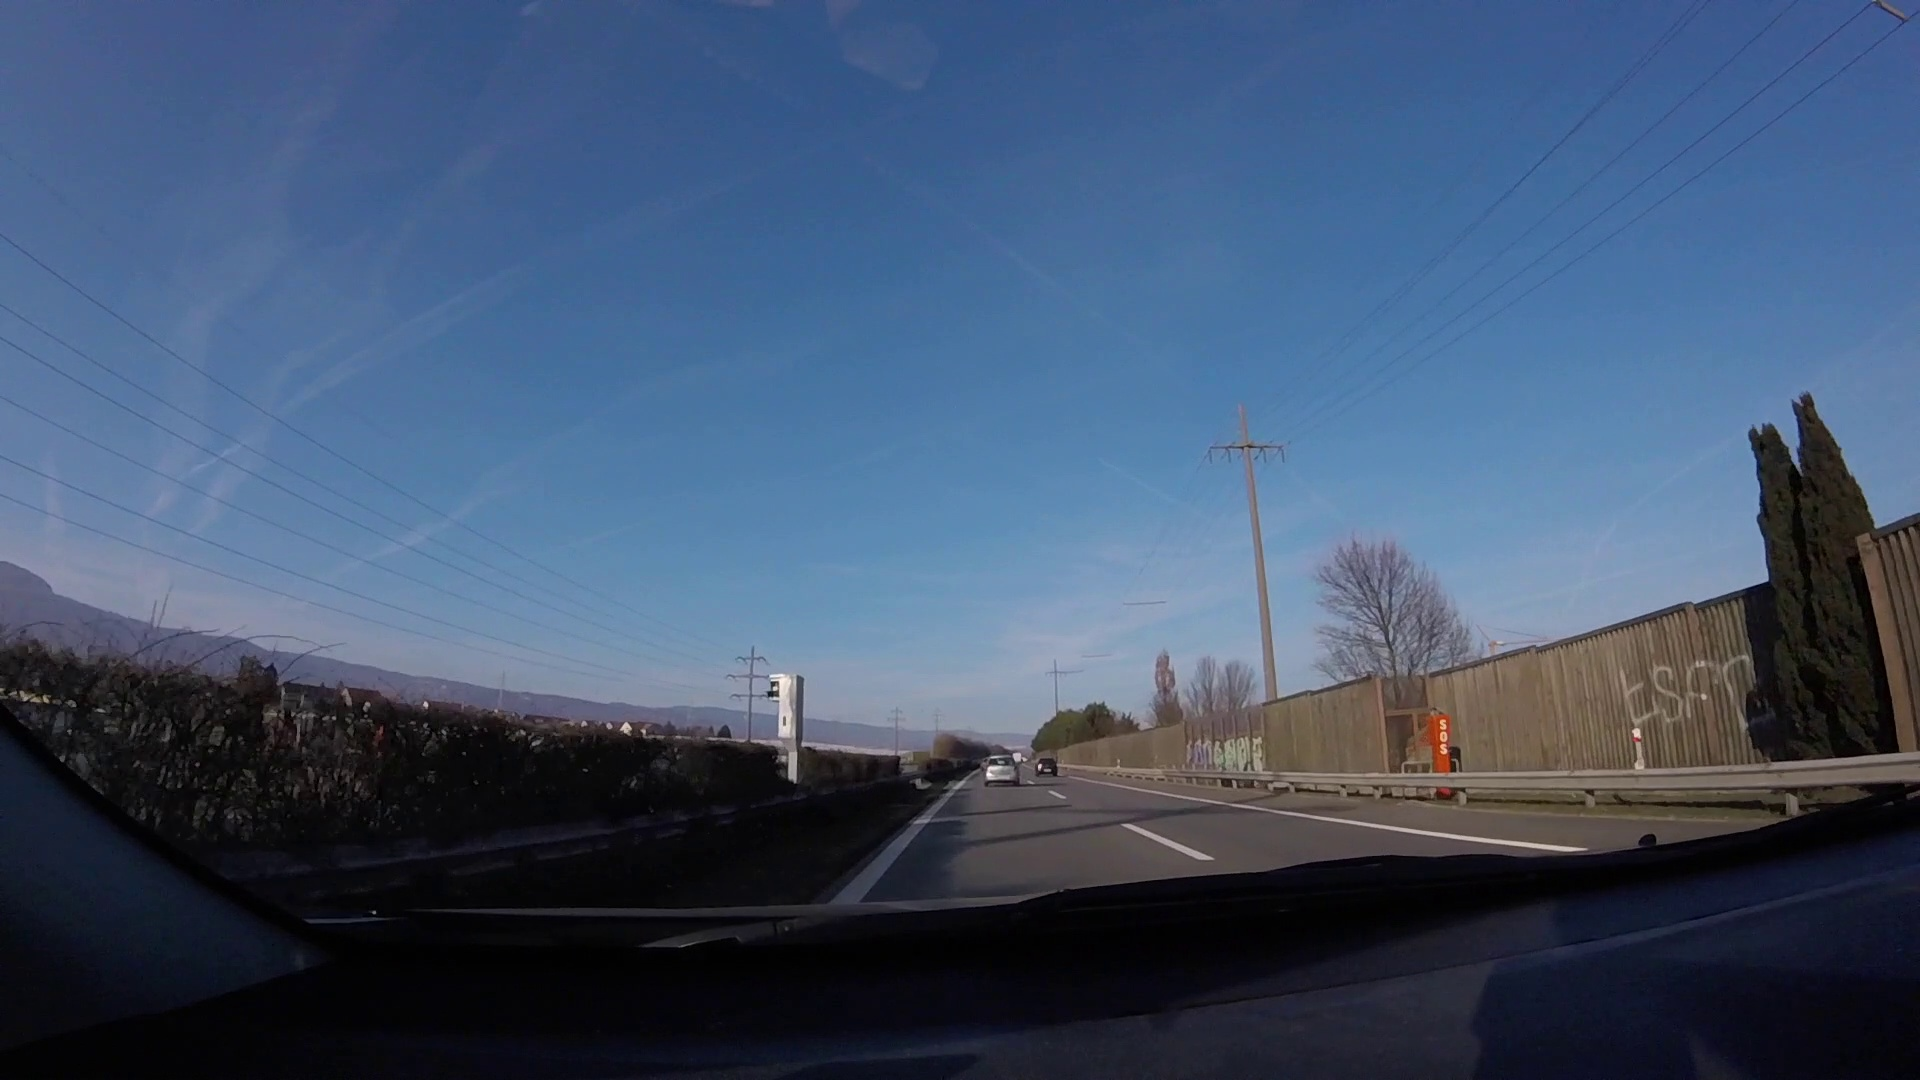radar: (765, 671, 807, 787)
